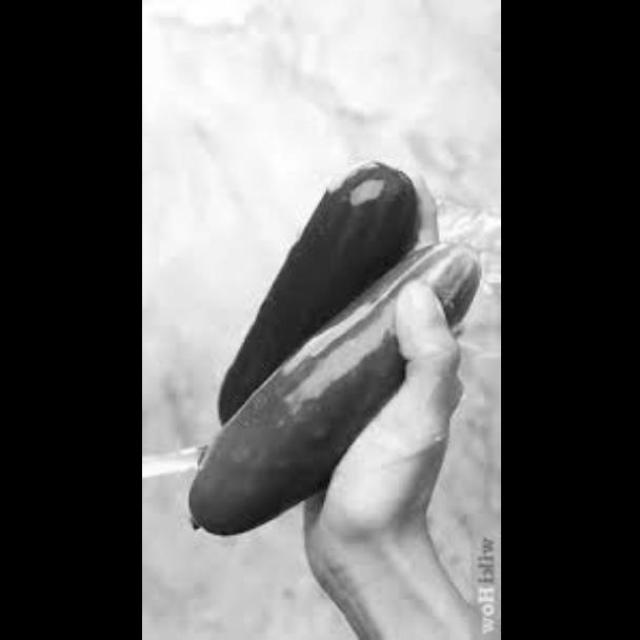dua chuot: (180, 240, 484, 541), (210, 150, 426, 430)
